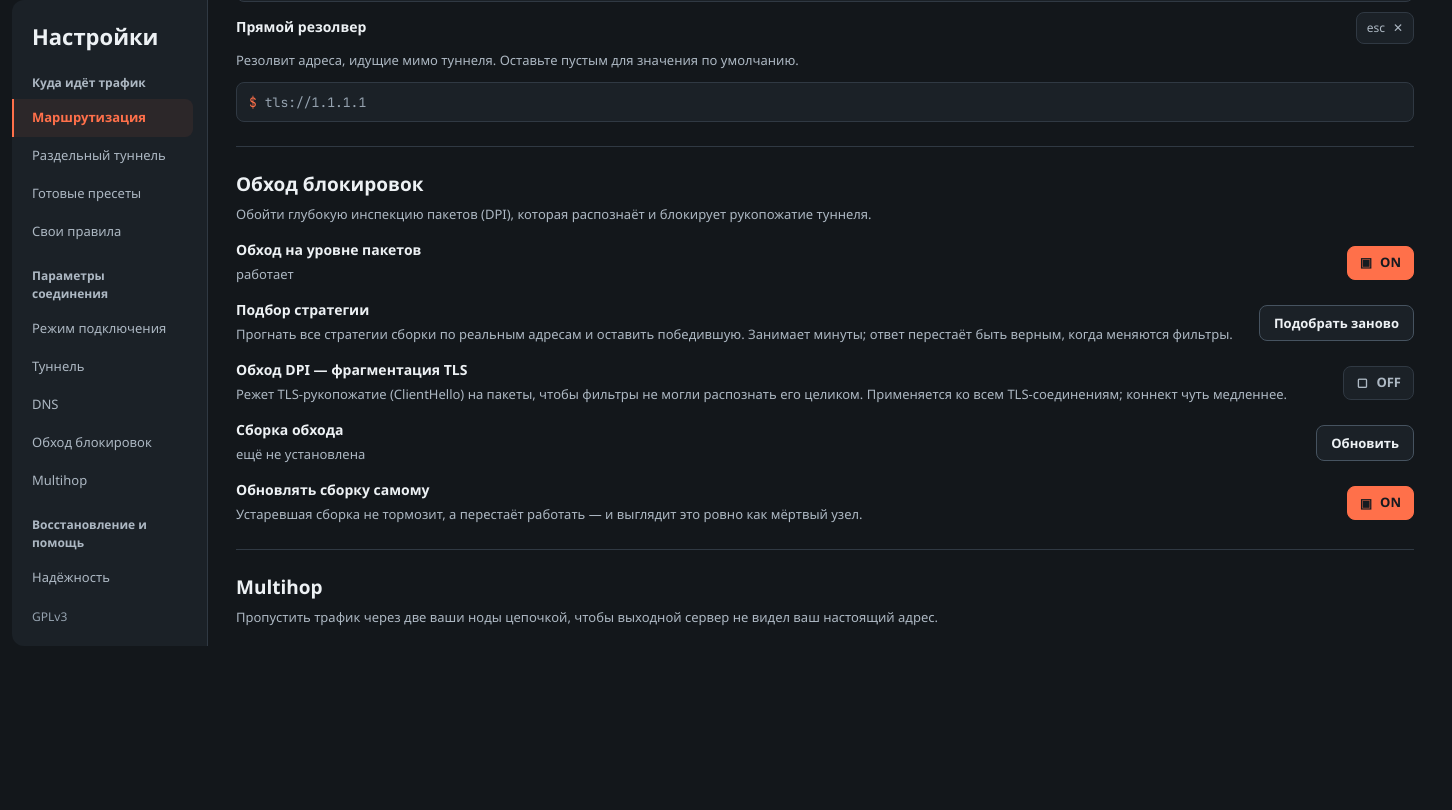
Test case: SettingsScreen — bypass bundle › controls › run progress › says the same thing in Russian
(page scrolled)
Click the button "Подобрать заново" at (1336, 323), box [1259,305,1414,341]
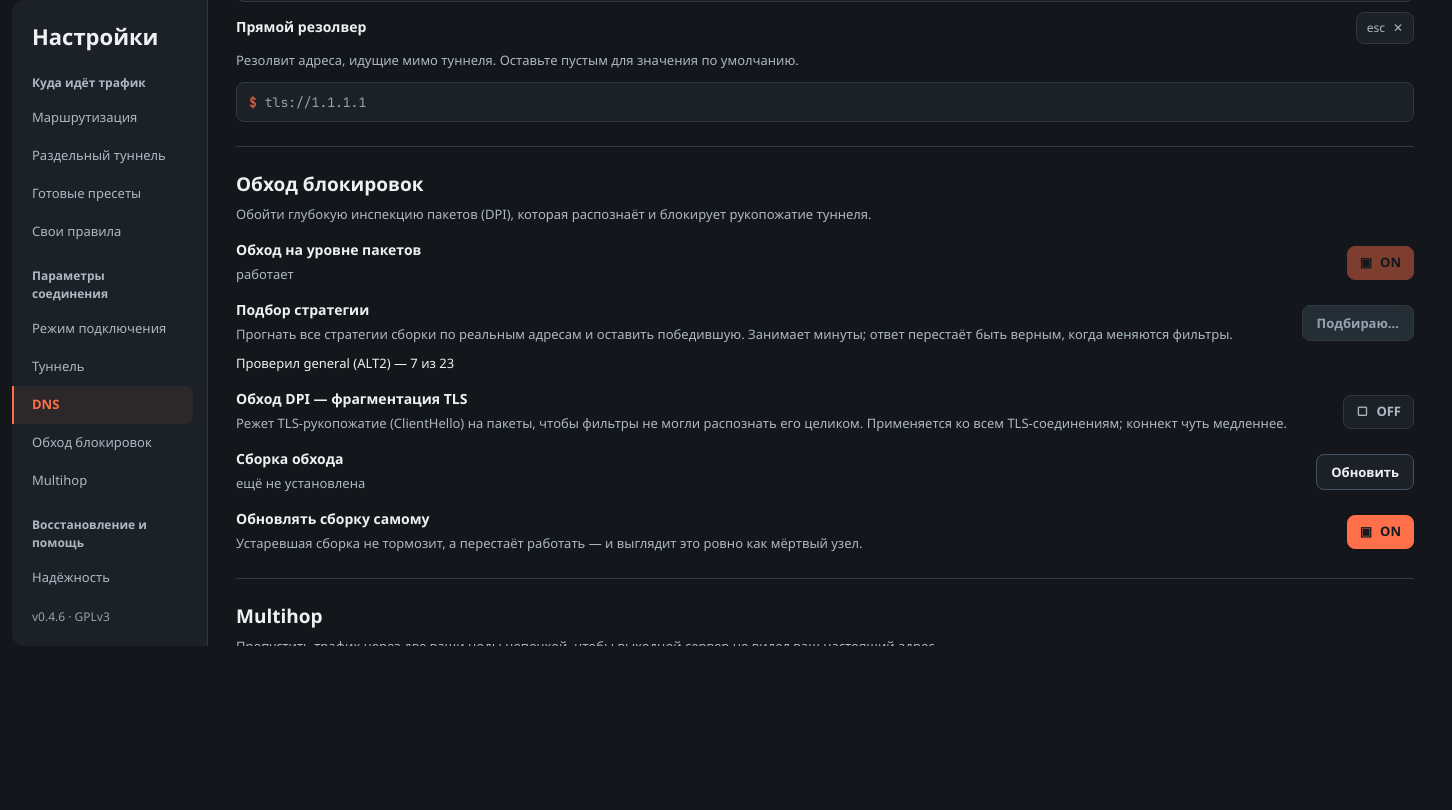
expect the text "Проверил general (ALT2)" is shown: met, box [236,354,454,372]
expect the text "7 из 23" is shown: met, box [236,354,454,372]
